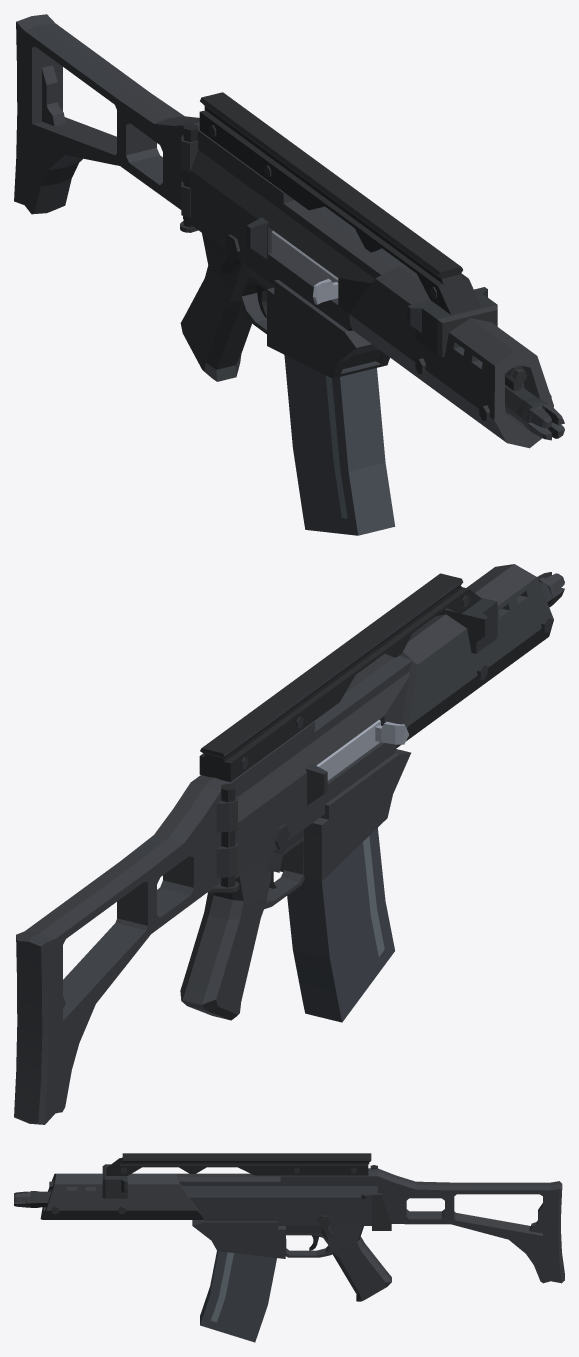
The picture shows the model from 3 angles, top to bottom: view 1: azimuth 30°, elevation 25°; view 2: azimuth 150°, elevation 25°; view 3: azimuth 270°, elevation 25°; orthographic projection. The views are drawn at different scales.
Visible parts, largest first — view 1: SM_Wep_Rifle_Assault_05, SM_Wep_Rifle_Assault_Stock_05, SM_Wep_Rifle_Assault_Mag_05, SM_Wep_Rifle_Assault_Slide_05; view 2: SM_Wep_Rifle_Assault_05, SM_Wep_Rifle_Assault_Stock_05, SM_Wep_Rifle_Assault_Mag_05, SM_Wep_Rifle_Assault_Slide_05; view 3: SM_Wep_Rifle_Assault_05, SM_Wep_Rifle_Assault_Stock_05, SM_Wep_Rifle_Assault_Mag_05.
Part boxes in pixels (x1,y1,x2,y2): SM_Wep_Rifle_Assault_05: [180, 92, 564, 448]; SM_Wep_Rifle_Assault_Stock_05: [14, 14, 199, 227]; SM_Wep_Rifle_Assault_Mag_05: [284, 355, 395, 535]; SM_Wep_Rifle_Assault_Slide_05: [271, 230, 338, 304]; SM_Wep_Rifle_Assault_05: [180, 564, 564, 1020]; SM_Wep_Rifle_Assault_Stock_05: [14, 782, 237, 1124]; SM_Wep_Rifle_Assault_Mag_05: [287, 828, 394, 1022]; SM_Wep_Rifle_Assault_Slide_05: [316, 719, 408, 780]; SM_Wep_Rifle_Assault_05: [14, 1153, 391, 1301]; SM_Wep_Rifle_Assault_Stock_05: [370, 1165, 564, 1283]; SM_Wep_Rifle_Assault_Mag_05: [200, 1251, 276, 1342].
Size of the model in its own units: 0.0773 by 0.2964 by 0.8142.
Materials: 1 (1 with a texture image).
